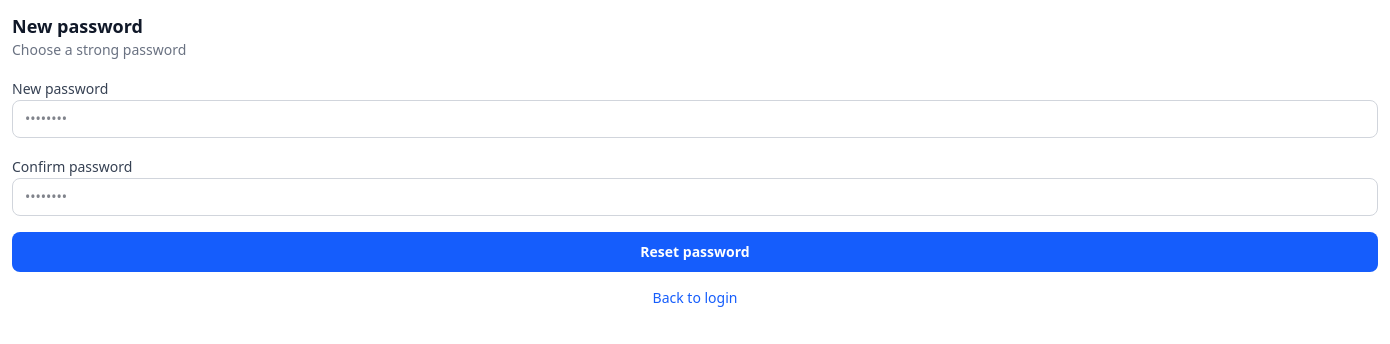
Test: ResetPassword › shows a validation error when the two passwords don't match
This screenshot has width=1390, height=344.
In the 1st password field with placeholder "••••••••": (695, 119) top-left (12, 100), bottom-right (1378, 138), type "password123"
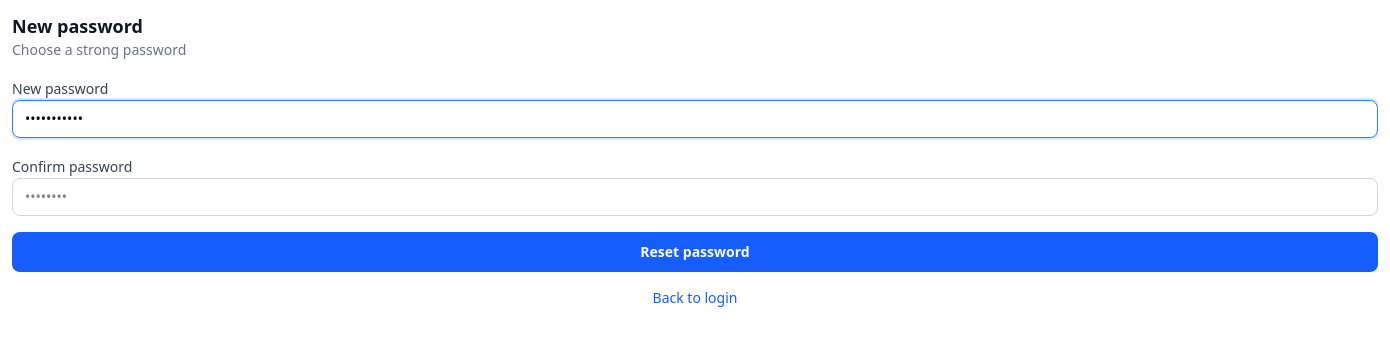
In the password field with placeholder "••••••••": (695, 197) top-left (12, 178), bottom-right (1378, 216), type "different123"
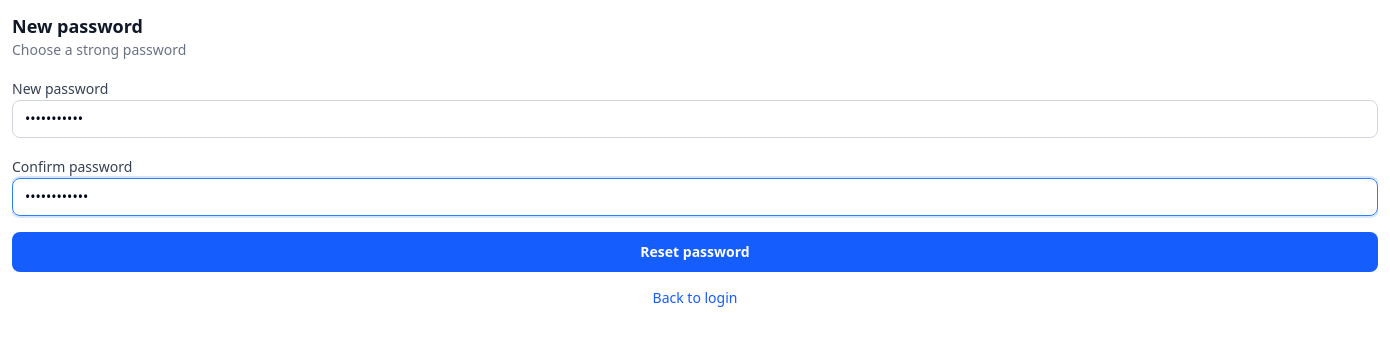
Click the button "Reset password": (695, 252) top-left (12, 232), bottom-right (1378, 272)
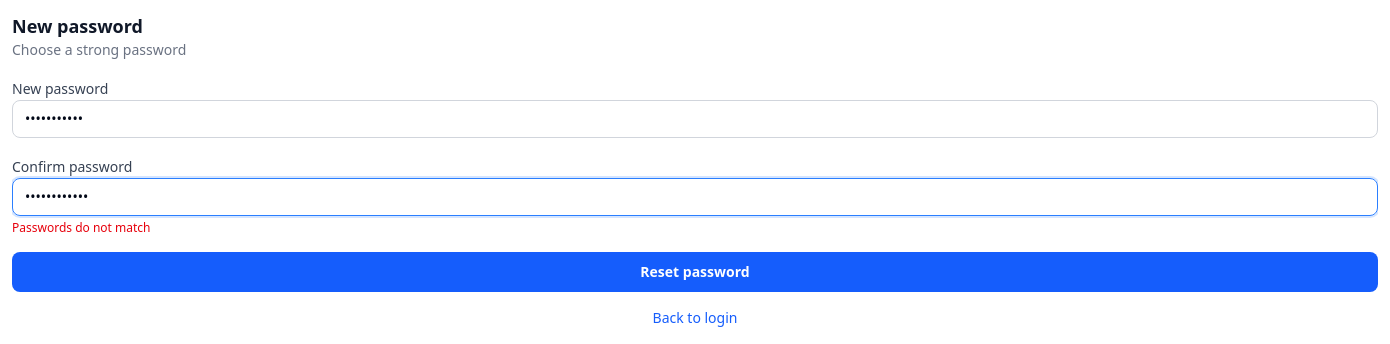
expect the text "Passwords do not match" is shown: met, box top-left (12, 219), bottom-right (150, 236)
